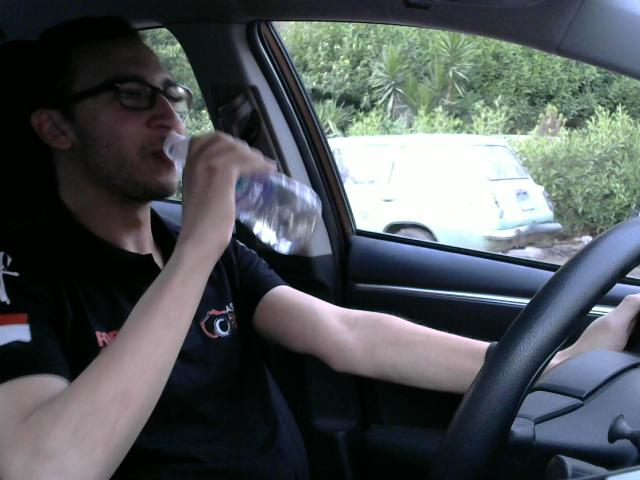Drinking: (160, 127, 324, 256)
